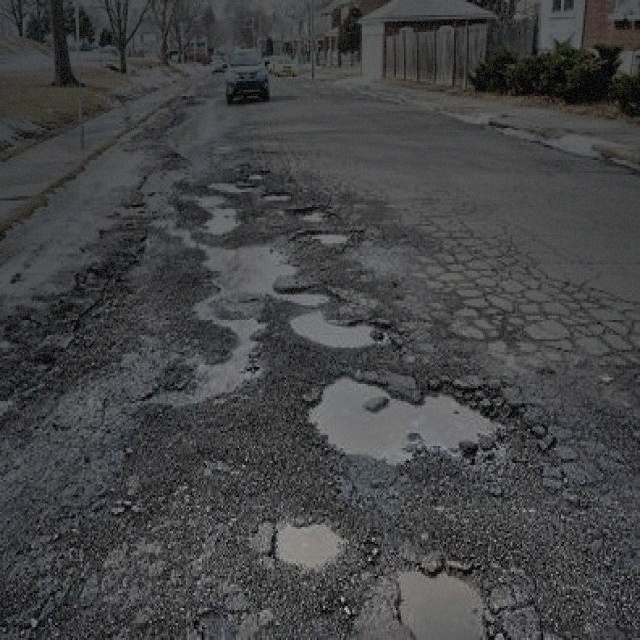pothole: (302, 369, 508, 463), (386, 555, 492, 638), (286, 305, 393, 346), (270, 514, 344, 565), (302, 224, 359, 245), (274, 284, 330, 301), (292, 200, 332, 222), (258, 188, 292, 200)
